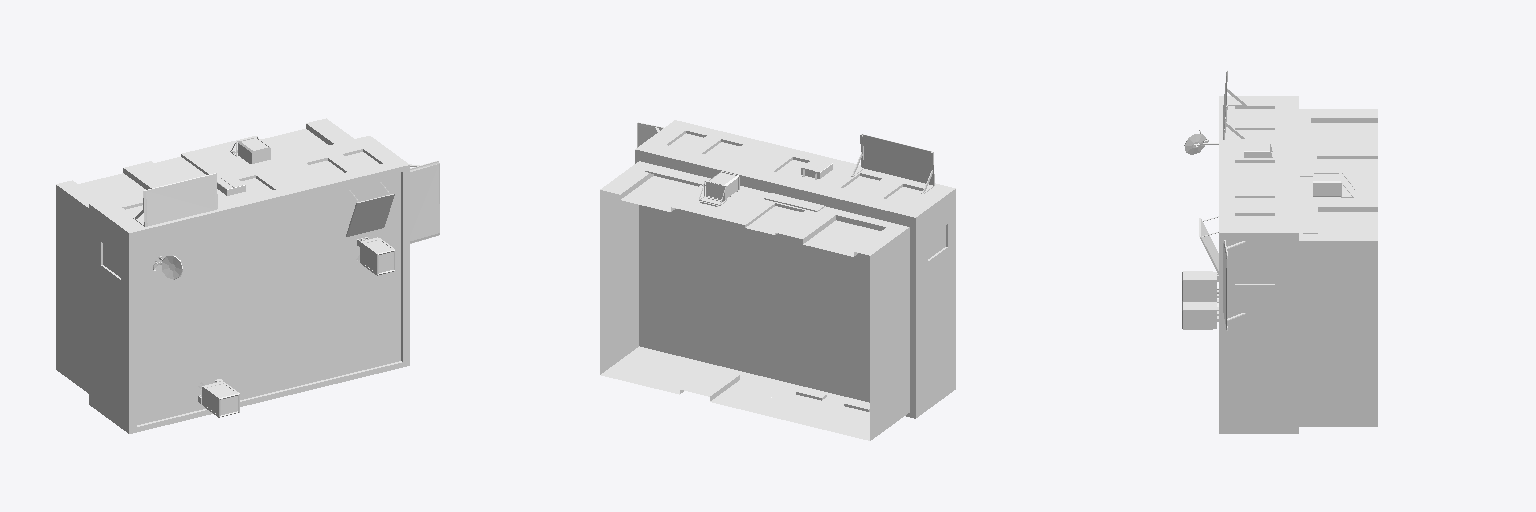
The model's file is building2.obj.
The picture shows the model from 3 angles: view 1: azimuth 30°, elevation 25°; view 2: azimuth 150°, elevation 25°; view 3: azimuth 270°, elevation 25°; orthographic projection.
Visible parts, largest first — view 1: Building2_007; view 2: Building2_007; view 3: Building2_007.
Part boxes in pixels (x1,y1,x2,y2): Building2_007: (56, 118, 439, 433); Building2_007: (600, 120, 955, 440); Building2_007: (1182, 70, 1377, 433).
Bounding box in the file's own units: 12.98 × 9.38 × 6.98.